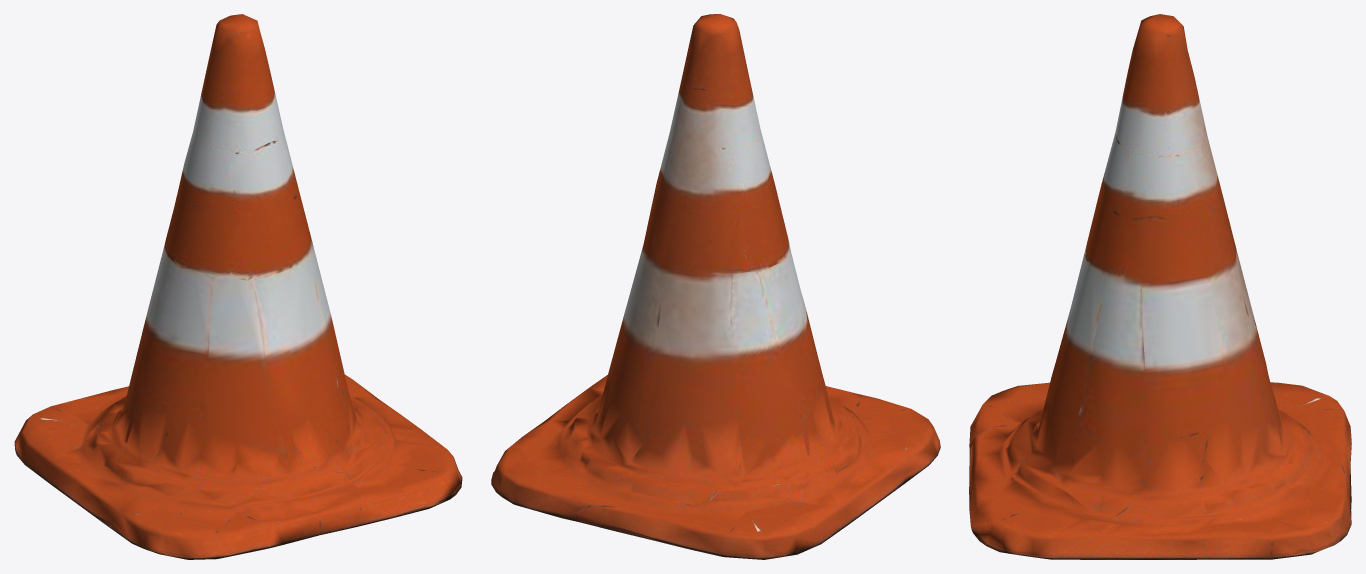
3 renders of one model, left to right at view 1: azimuth 30°, elevation 25°; view 2: azimuth 150°, elevation 25°; view 3: azimuth 270°, elevation 25°, orthographic. The views are drawn at different scales.
Size of the model in its own units: 1.43 by 1.9 by 1.43.
Materials: 1 (1 with a texture image).
